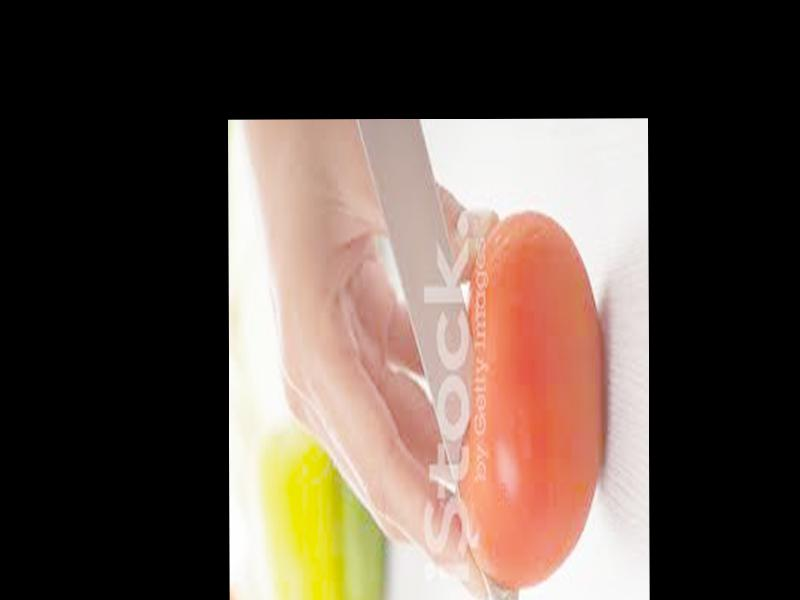Tomato: (459, 206, 607, 589)
